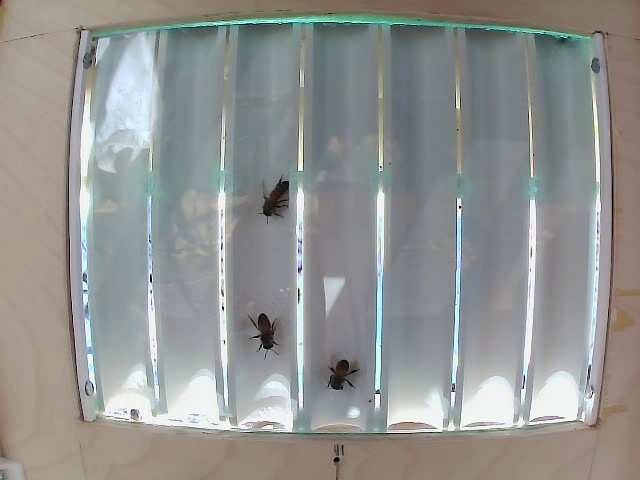bee: (250, 309, 278, 367), (324, 363, 362, 404), (257, 181, 297, 218)
